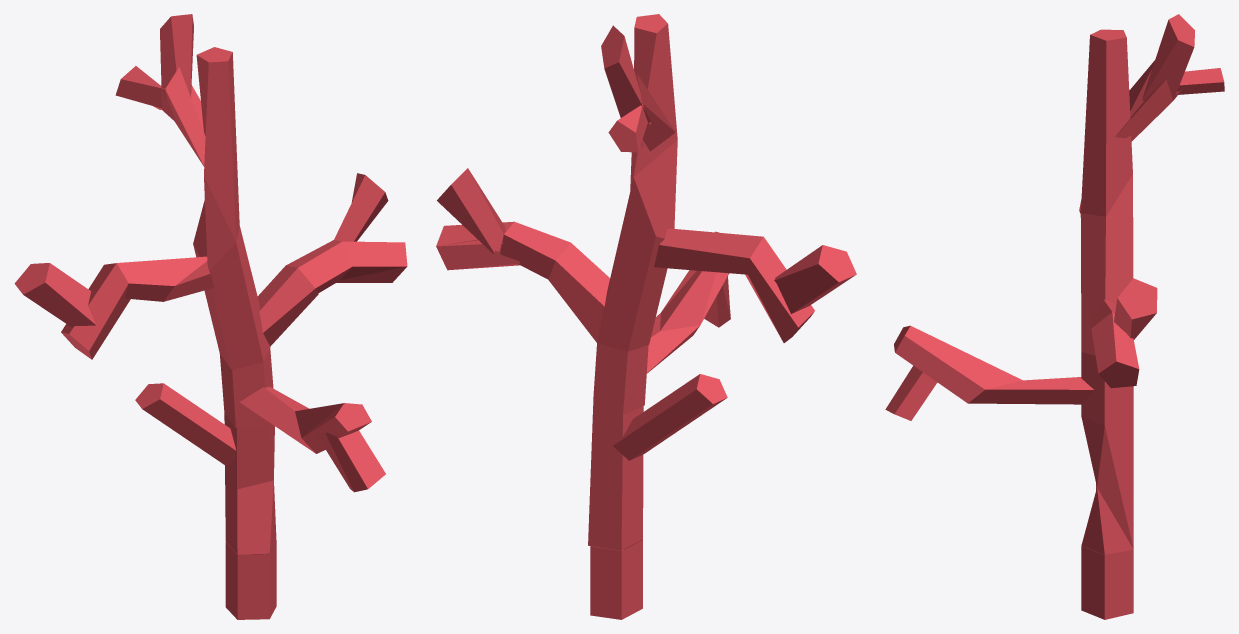
File: coral2.fbx
3 renders of one model, left to right at view 1: azimuth 30°, elevation 25°; view 2: azimuth 150°, elevation 25°; view 3: azimuth 270°, elevation 25°, orthographic. The views are drawn at different scales.
Parts seen in each view (by area): view 1: Cylinder; view 2: Cylinder; view 3: Cylinder.
Part boxes in pixels (<box>): Cylinder: <box>14,14,407,619</box>; Cylinder: <box>436,14,856,619</box>; Cylinder: <box>885,14,1224,619</box>.
Size of the model in its own units: 1240 by 1783 by 953.
